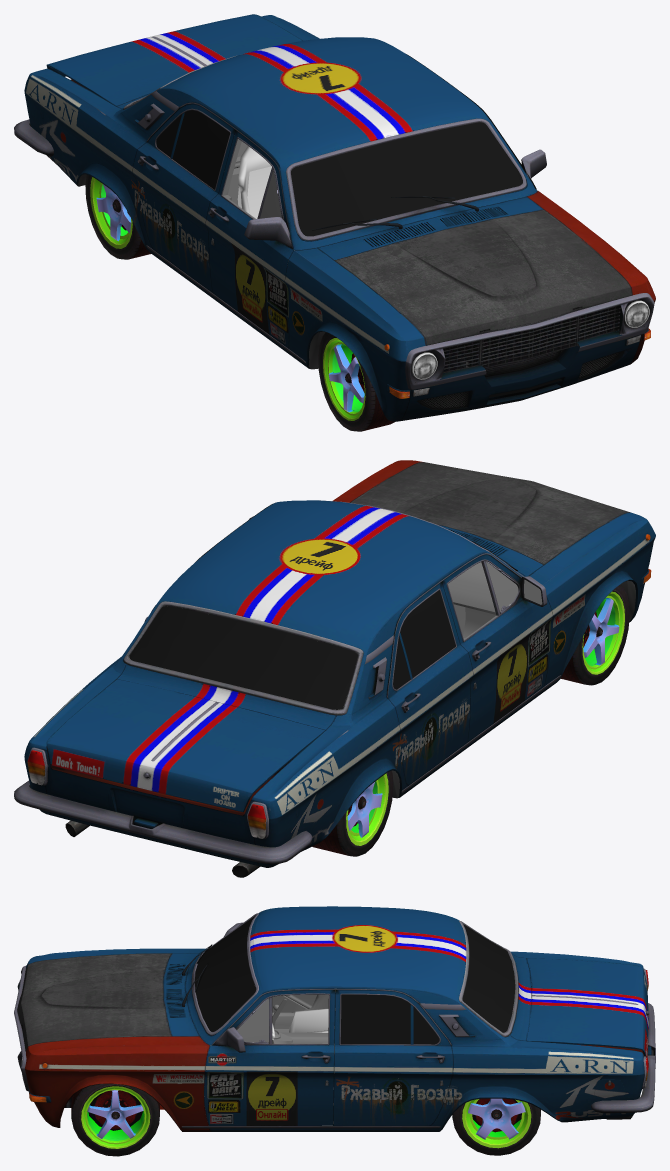
Rendered from Volga.fbx.
3 views of the same model, one above another, from view 1: azimuth 30°, elevation 25°; view 2: azimuth 150°, elevation 25°; view 3: azimuth 270°, elevation 25° (orthographic). The views are drawn at different scales.
Visible parts, largest first — view 1: Volga_body, volga_hood_02, windscreen, door_r, rear_panel, Grill_full, r_Front_tyre, hood_grill, r_Rear_tyre, seats_lo, seats_hi, rear_bumper; view 2: Volga_body, rear_panel, windscreen, volga_hood_02, door_r, rear_bumper, r_Front_tyre, r_Rear_tyre, Interior_low, hood_grill; view 3: Volga_body, door_l, windscreen, volga_hood_02, rear_panel, l_Front_tyre, l_Rear_tyre, hood_grill, rear_bumper, int_door_r, seats_hi, Interior_low.
Part boxes in pixels (x1,y1,x2,y2): Volga_body: (24,15,655,421); volga_hood_02: (335,209,632,345); windscreen: (132,101,522,236); door_r: (205,130,293,348); rear_panel: (46,14,302,106); Grill_full: (443,305,620,373); r_Front_tyre: (318,332,394,431); hood_grill: (318,197,543,260); r_Rear_tyre: (85,174,151,259); seats_lo: (237,166,271,218); seats_hi: (238,146,271,214); rear_bumper: (14,119,53,156); Volga_body: (24,460,655,877); rear_panel: (46,679,325,812); windscreen: (129,590,455,709); volga_hood_02: (350,462,630,564); door_r: (442,554,553,741); rear_bumper: (14,780,312,864); r_Front_tyre: (561,584,629,685); r_Rear_tyre: (312,770,393,856); Interior_low: (129,562,496,709); hood_grill: (438,525,543,576); Volga_body: (14,906,648,1131); door_l: (204,989,335,1125); windscreen: (195,916,515,1044); volga_hood_02: (17,953,171,1051); rear_panel: (526,958,648,1057); l_Front_tyre: (71,1084,159,1156); l_Rear_tyre: (452,1098,540,1155); hood_grill: (163,953,199,1036); rear_bumper: (591,1003,655,1113); int_door_r: (272,994,328,1028); seats_hi: (289,1008,328,1032); Interior_low: (204,949,505,1125).
Size of what is drawn, in the model's own units: 2.16 by 1.43 by 4.94.
